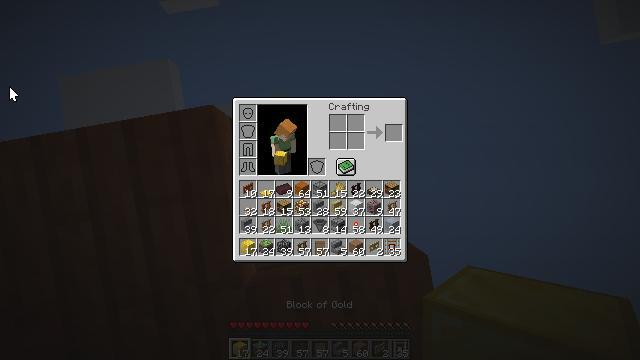cursor: (86, 9, 102, 19)
